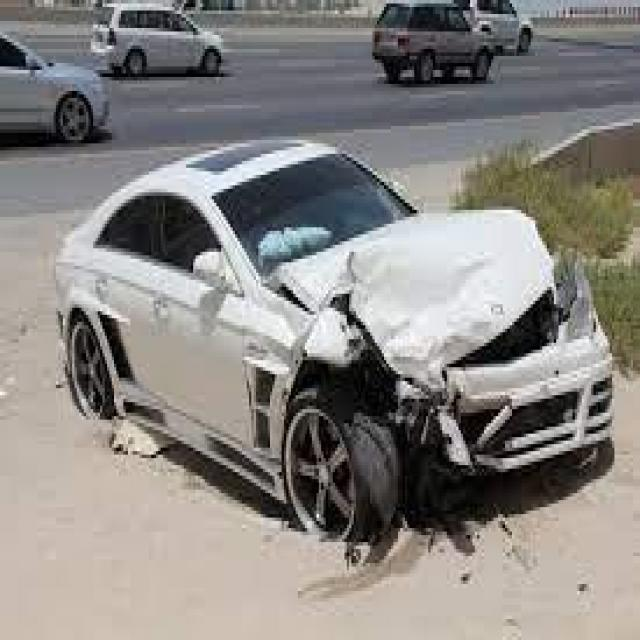damaged: (277, 244, 617, 532)
